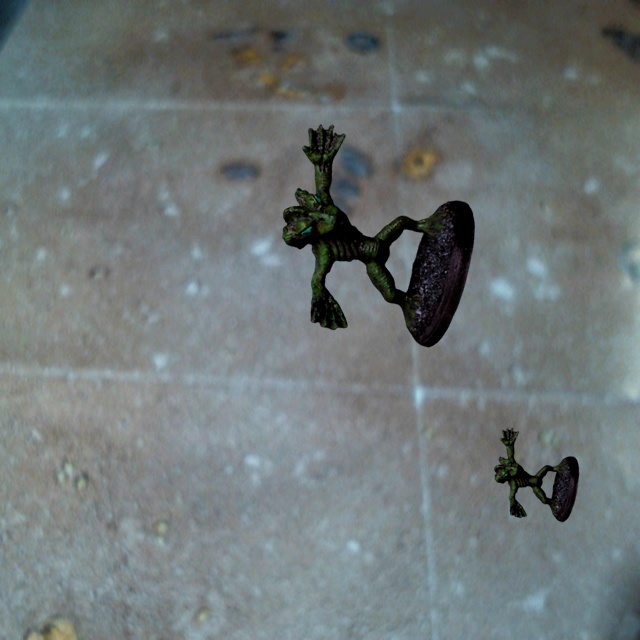pieza_juego: (282, 124, 474, 347), (494, 428, 578, 521)
